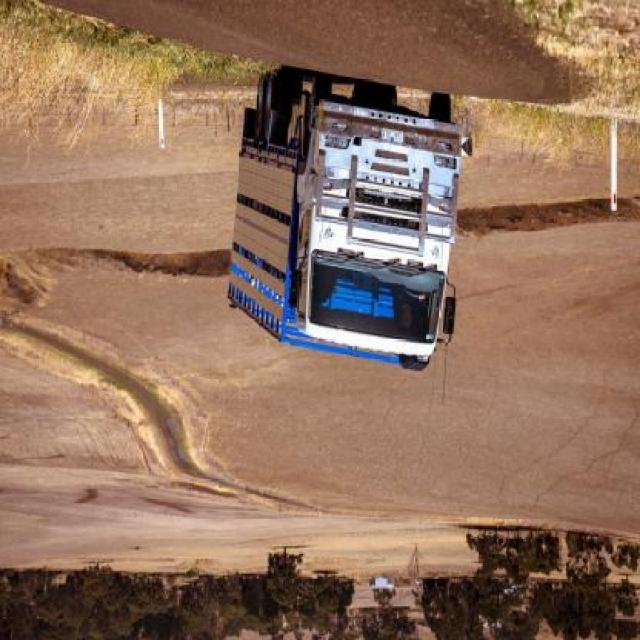truck: (227, 67, 475, 381)
